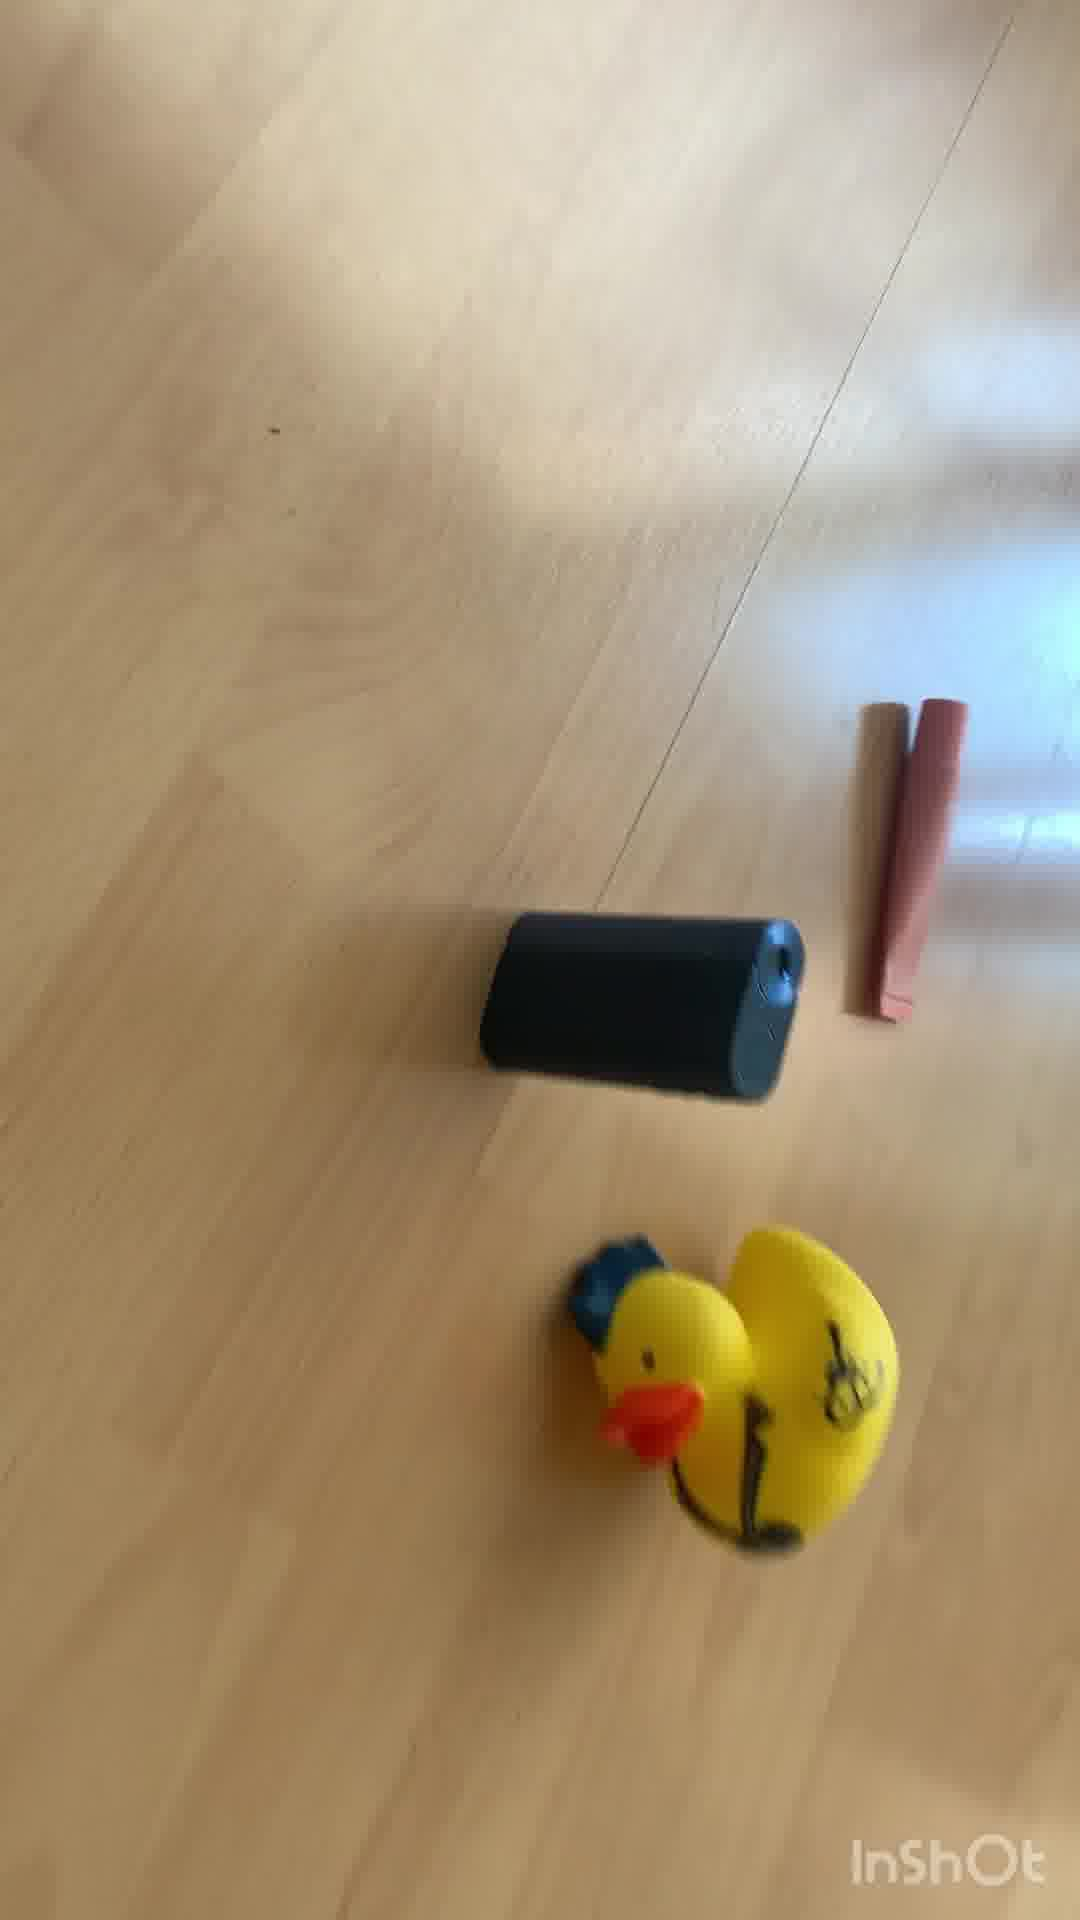duck: (572, 1218, 887, 1564)
glo: (492, 893, 804, 1105)
lip balm: (882, 684, 972, 1034)
